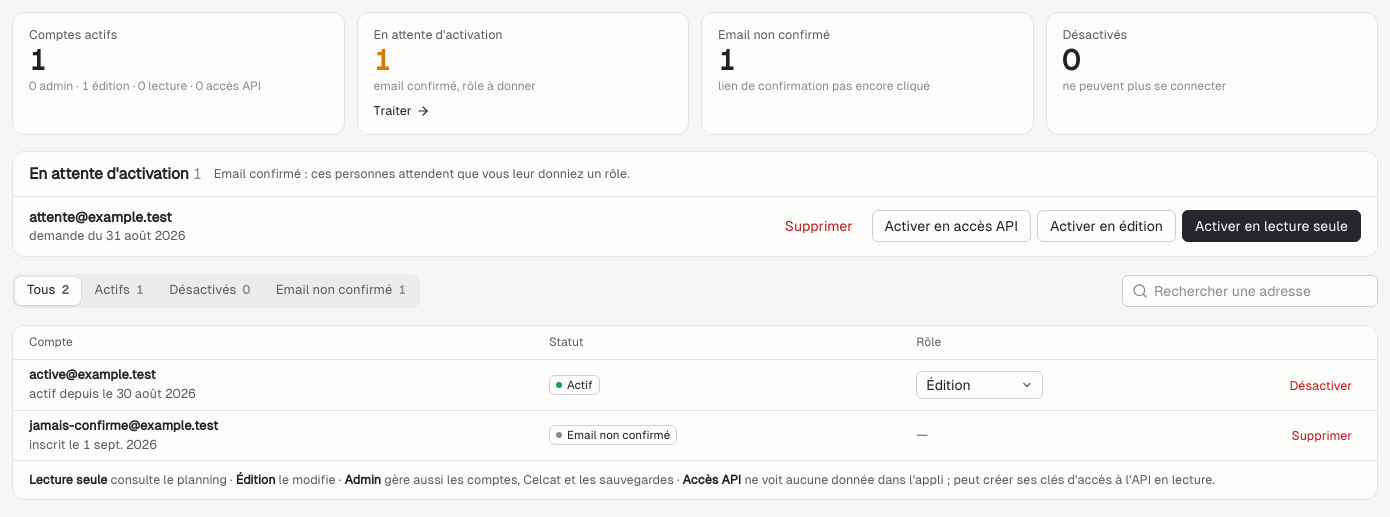
AdminUsersView › filtre les comptes par statut et par adresse
Expected: the text "active@example.test" is shown, [29, 367, 156, 382]
Click the button "Actifs 1" at (119, 291), box [83, 277, 155, 305]
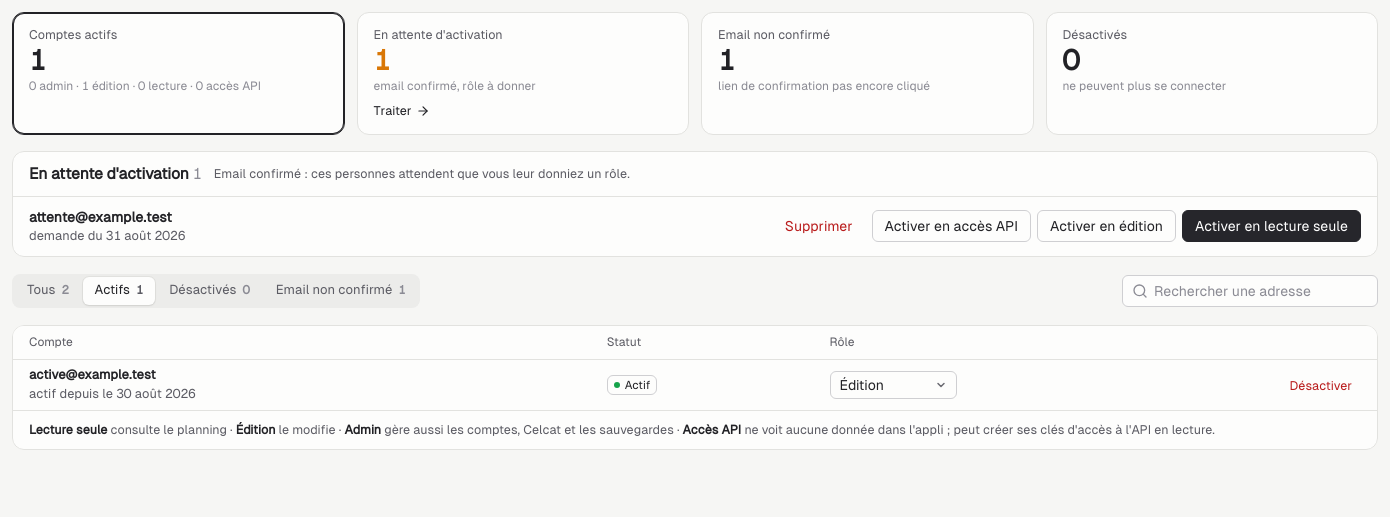
Expected: the text "active@example.test" is shown, [29, 367, 156, 382]
Now the text "jamais-confirme@example.test" is gone
Click the button "Tous 2" at (48, 291), box [15, 277, 81, 305]
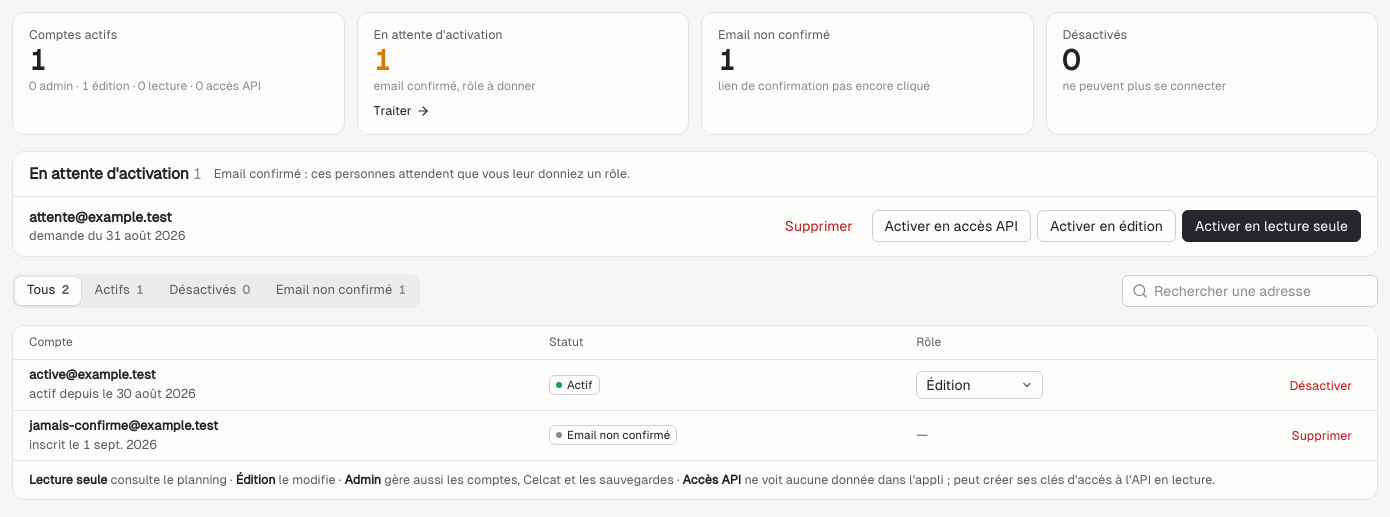
Type "jamais" into the search field labelled "Rechercher une adresse" at (1250, 291), box [1122, 275, 1378, 307]
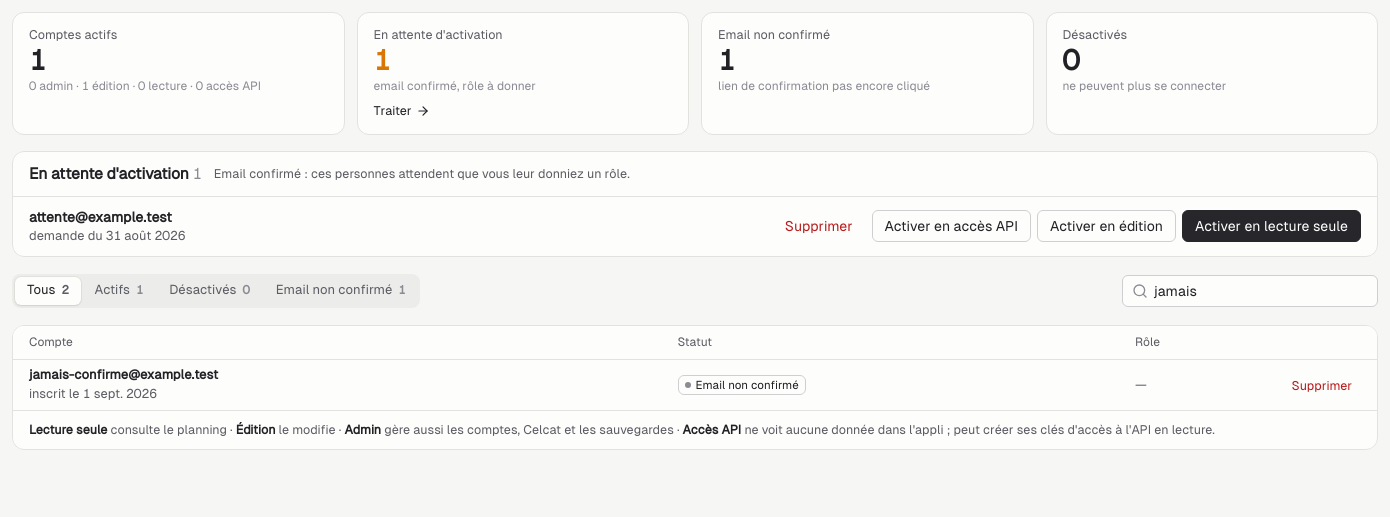
Expected: the text "attente@example.test" is shown, [29, 207, 185, 227]
Now the text "jamais-confirme@example.test" is shown, box [29, 367, 218, 382]
Now the text "active@example.test" is gone
